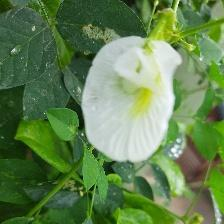shankupushpam: (82, 35, 184, 166)
